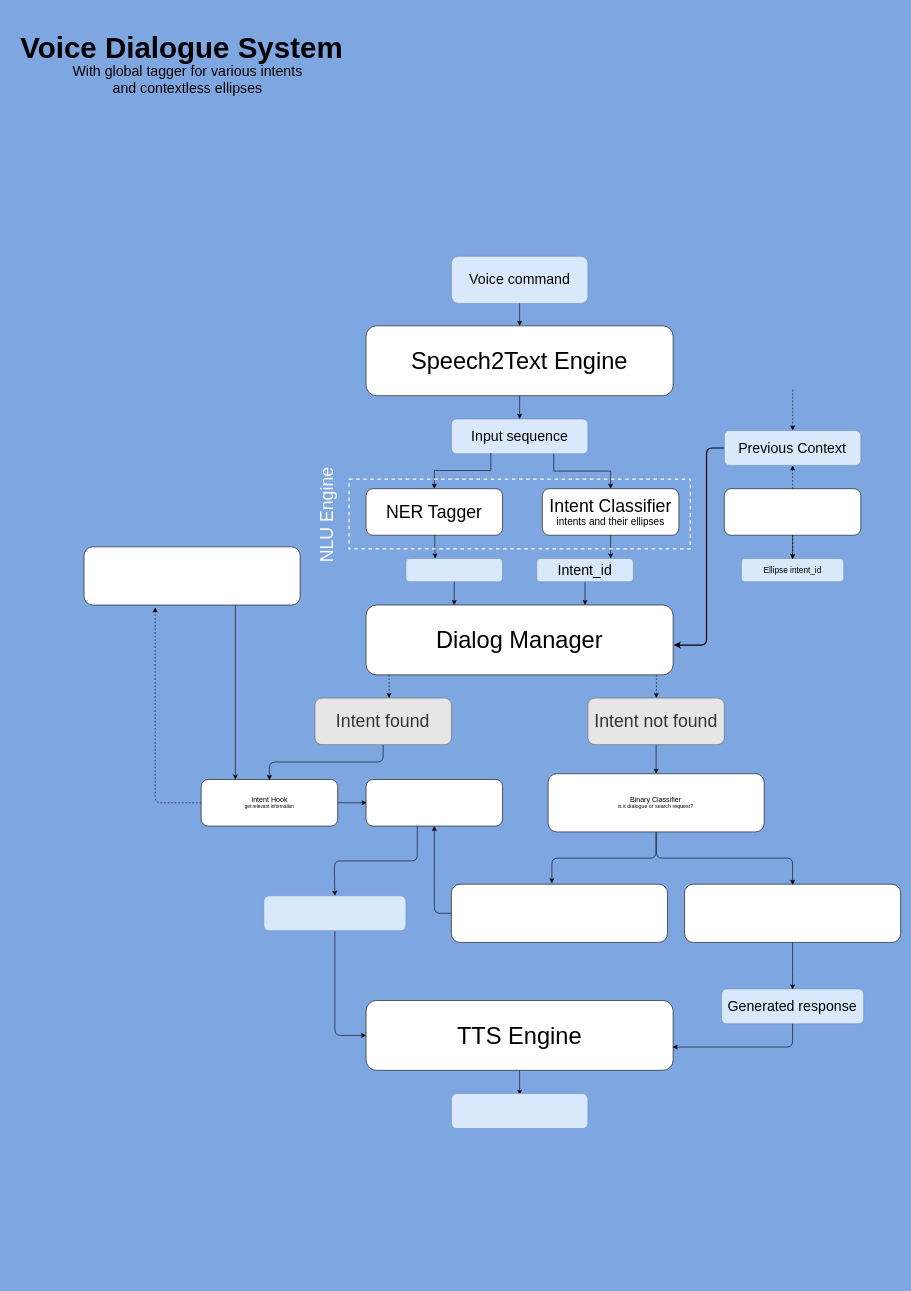
The diagram is 911 pixels wide and 1291 high, and some of its shapes have lost their labels. The box of each missing label's shape, as (x1, y1, x2, y2) in pixels:
Database and Web place, where system stores data: (83, 546, 300, 605)
Ellipse Detection if command is ellipse: (724, 488, 861, 535)
Filled response: (263, 895, 406, 931)
Form filling: (366, 779, 503, 826)
Improvisation Language Engine: (684, 884, 901, 942)
SearchInWeb Hook: (451, 884, 667, 942)
tags_sequence: (405, 558, 503, 582)
Voice response: (451, 1093, 588, 1128)
